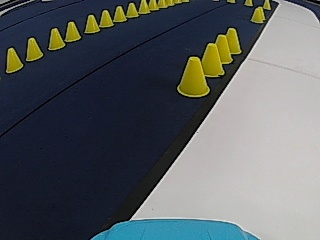cone: (177, 56, 209, 98), (198, 43, 225, 77), (213, 35, 232, 64), (5, 48, 22, 73), (225, 29, 241, 54), (48, 28, 65, 51), (26, 38, 42, 62), (65, 22, 81, 43), (84, 14, 100, 34), (99, 10, 114, 28), (113, 6, 127, 23), (251, 8, 263, 23), (138, 0, 150, 15), (127, 4, 139, 18), (149, 0, 159, 10), (159, 0, 167, 9)
